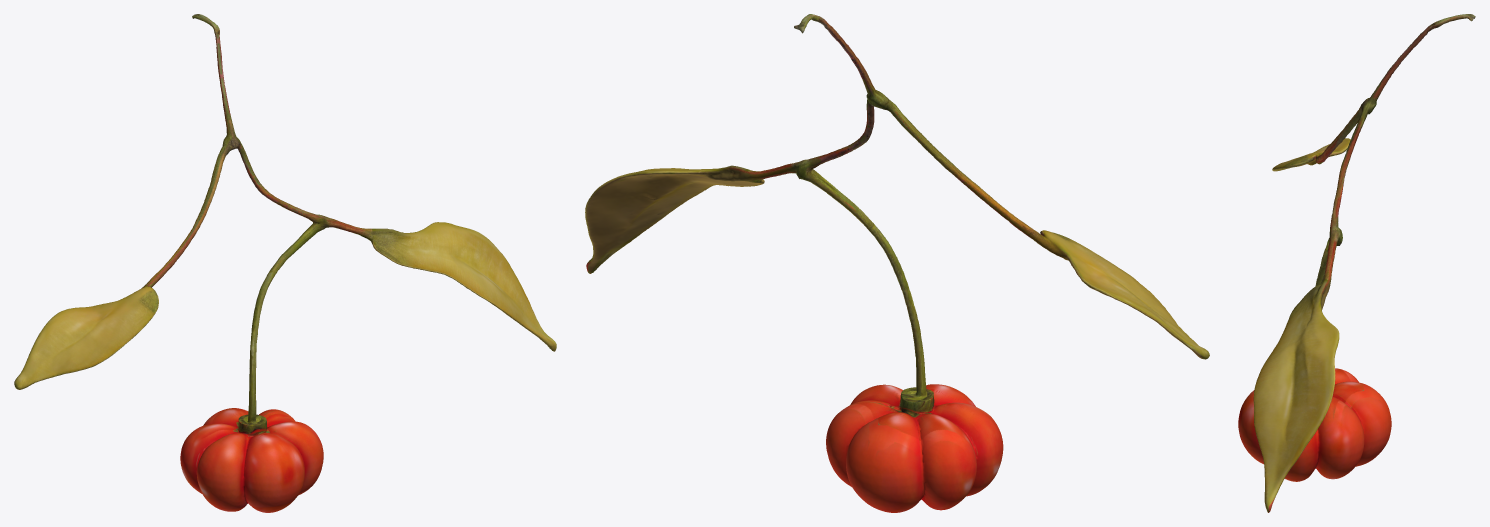
File: pitanga.glb
3 views of the same model, side by side, from view 1: azimuth 30°, elevation 25°; view 2: azimuth 150°, elevation 25°; view 3: azimuth 270°, elevation 25° (orthographic). The views are drawn at different scales.
Bounding box in the file's own units: 2 × 1.57 × 0.7313.
Materials: 1 (1 with a texture image).
